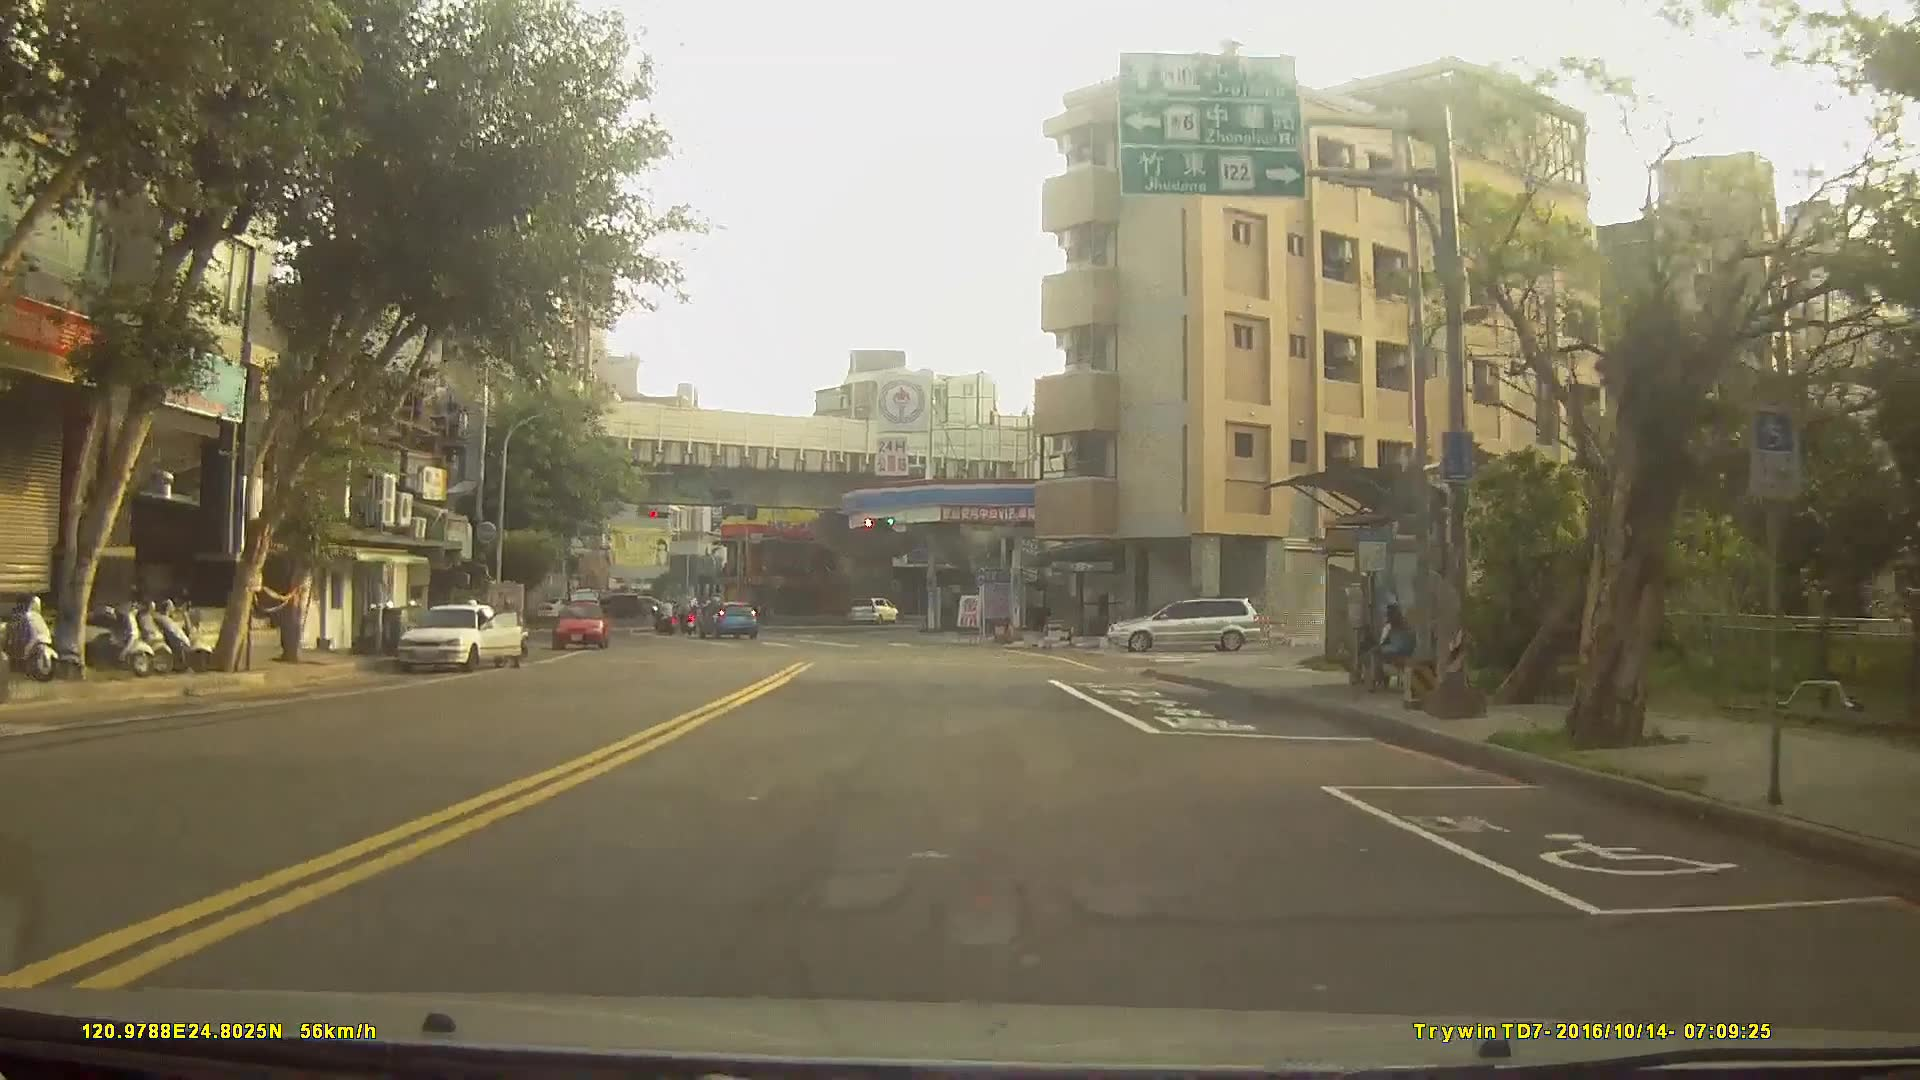pedestrian: (1372, 602, 1416, 696)
rider: (652, 595, 679, 636)
vehicle: (395, 597, 522, 672), (1106, 595, 1261, 652), (550, 597, 611, 648), (693, 596, 759, 638), (583, 589, 640, 619), (847, 596, 899, 625)
